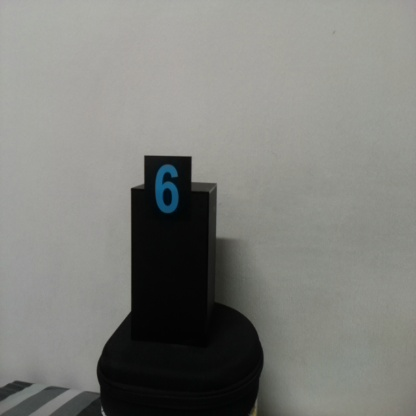id_6: (144, 156, 191, 228)
